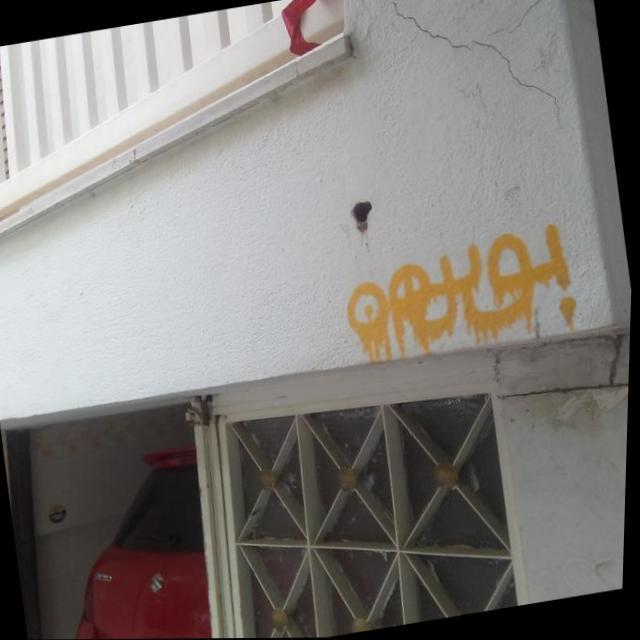-: (341, 226, 584, 370)
